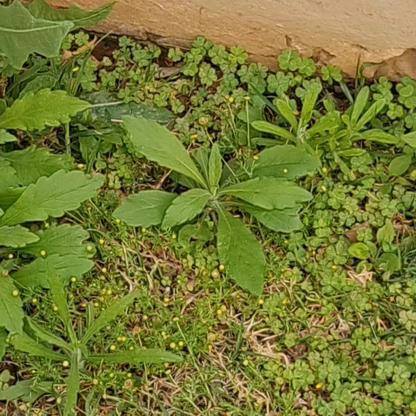Weeds: (113, 107, 315, 303), (5, 269, 180, 415), (0, 86, 96, 285), (250, 84, 337, 162), (326, 85, 399, 170)
